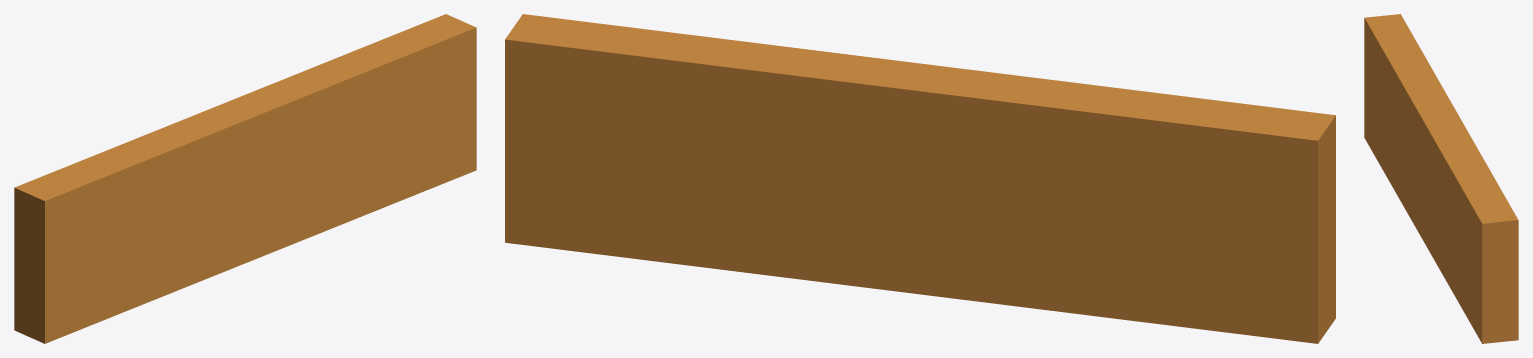
The picture shows the model from 3 angles, left to right: view 1: azimuth 30°, elevation 25°; view 2: azimuth 150°, elevation 25°; view 3: azimuth 270°, elevation 25°; orthographic projection. The views are drawn at different scales.
Visible parts, largest first — view 1: GF-A-OPEN-07-00-HEAD; view 2: GF-A-OPEN-07-00-HEAD; view 3: GF-A-OPEN-07-00-HEAD.
Part boxes in pixels (left/top/right/bottom): GF-A-OPEN-07-00-HEAD: left=14, top=14, right=476, bottom=343; GF-A-OPEN-07-00-HEAD: left=505, top=14, right=1335, bottom=343; GF-A-OPEN-07-00-HEAD: left=1364, top=14, right=1518, bottom=343.
Size of the model in its own units: 1.2 by 0.32 by 0.3716.
